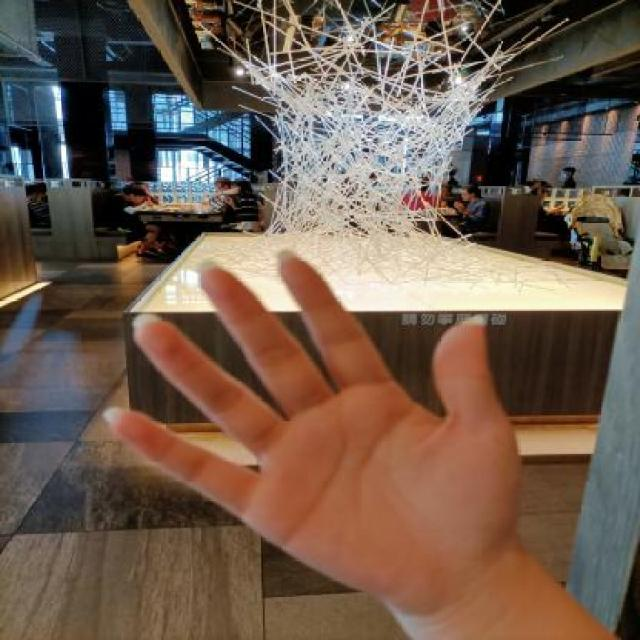bare_hand: (71, 230, 571, 622)
